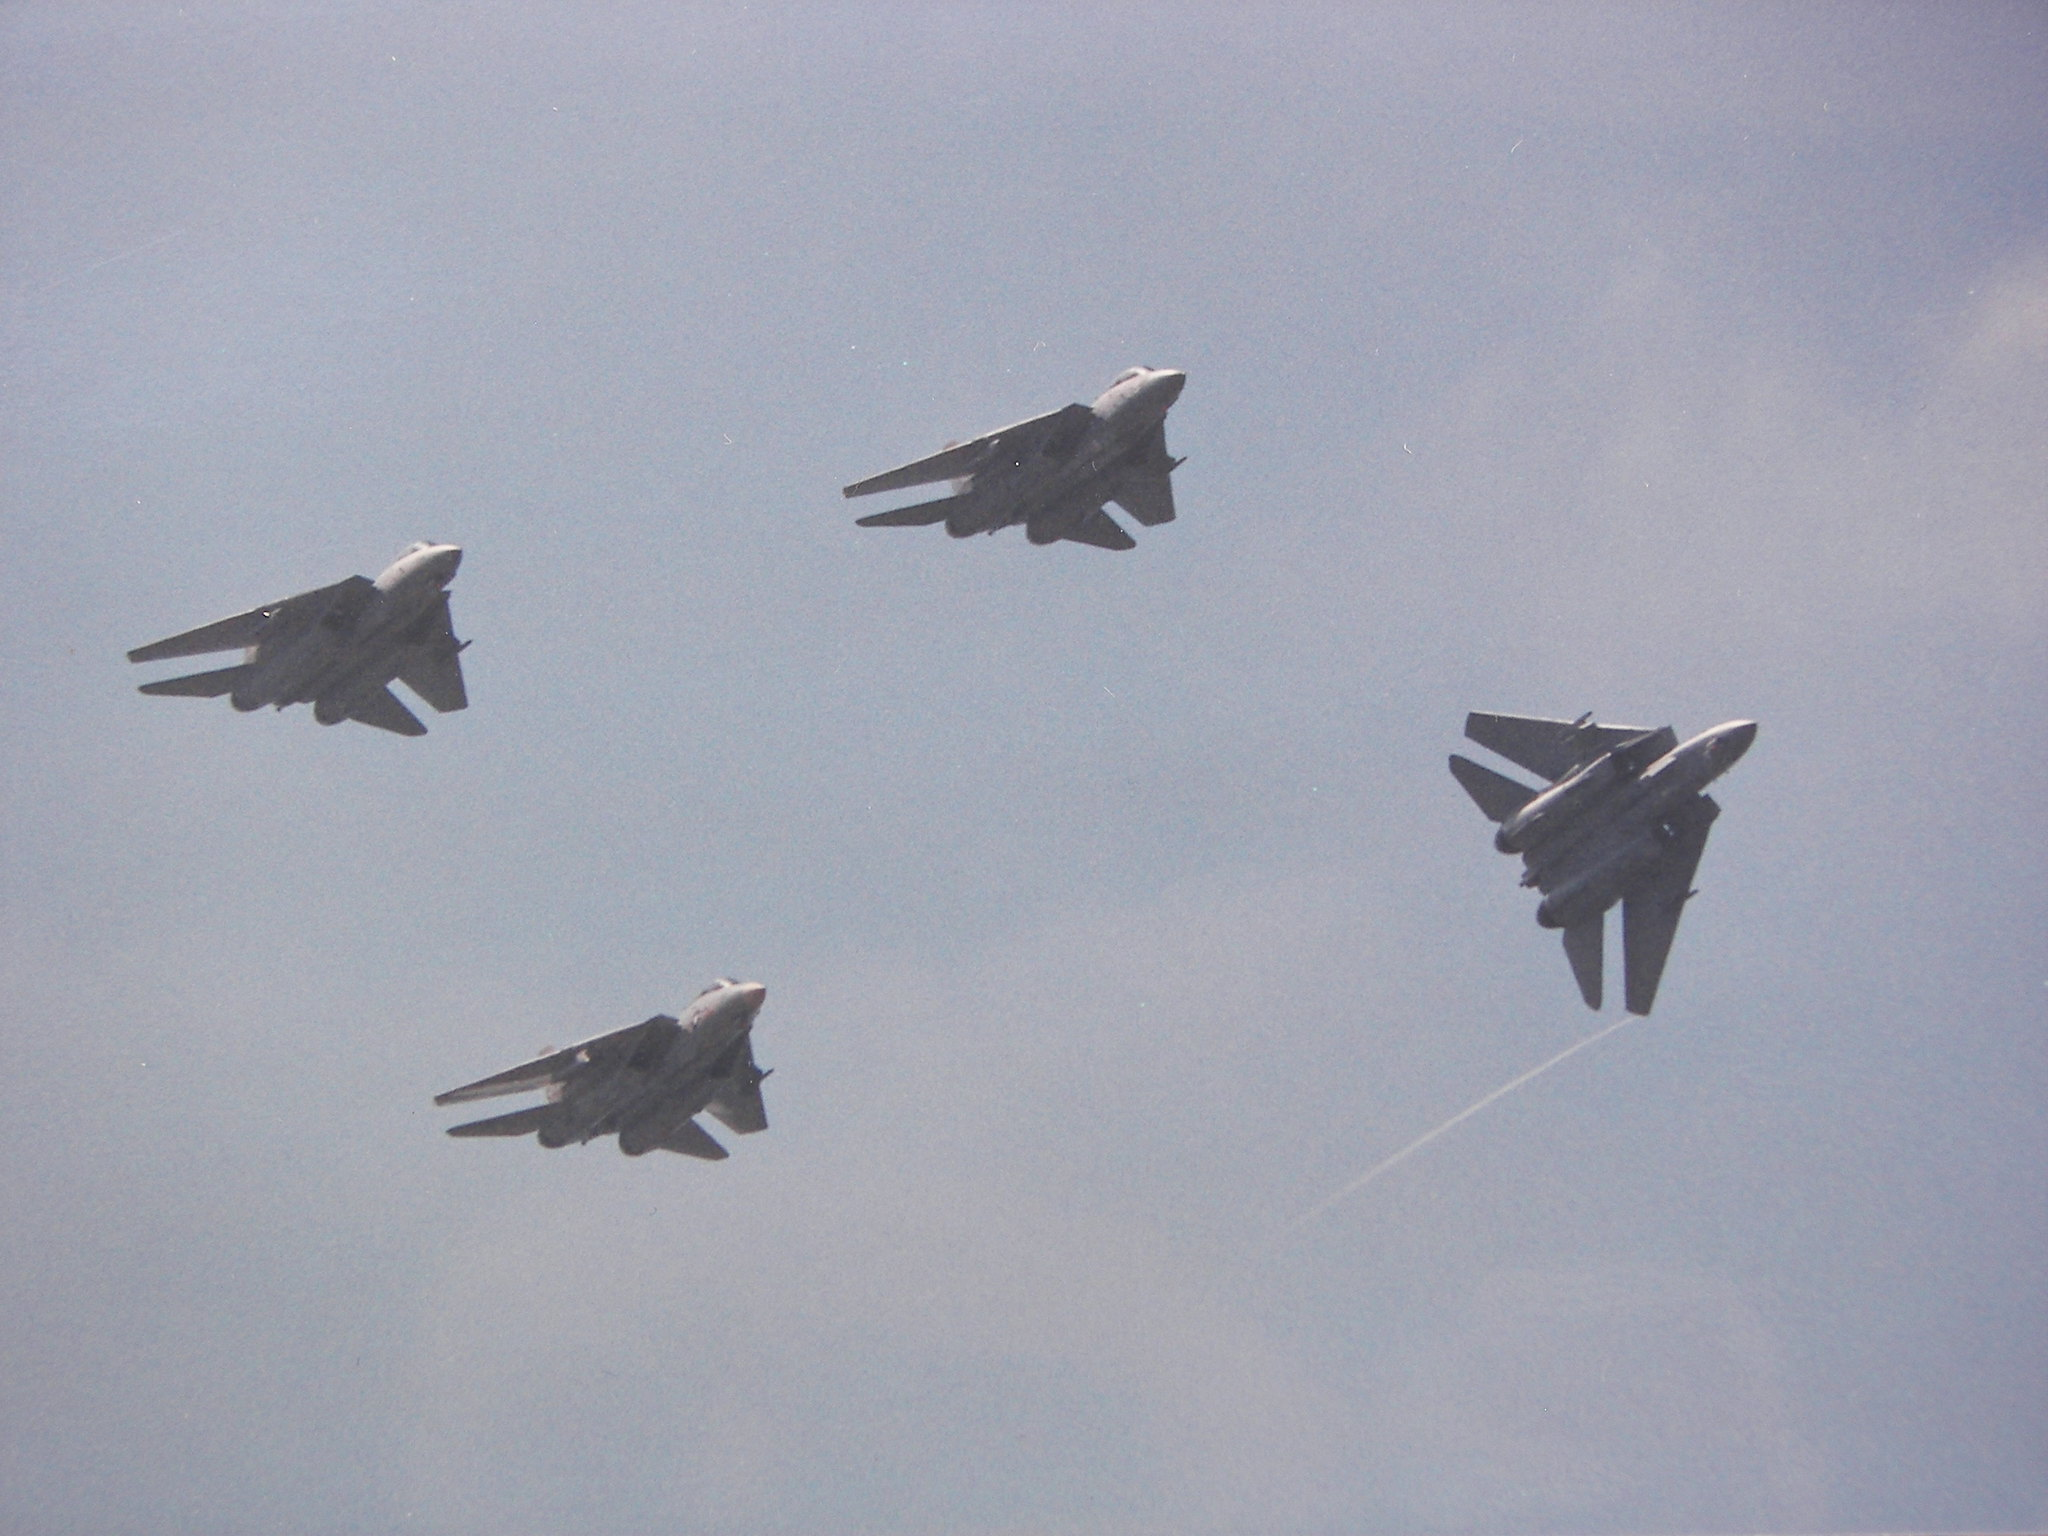F14: (1447, 710, 1758, 1016), (126, 539, 474, 736), (842, 365, 1187, 552), (431, 975, 774, 1160)
